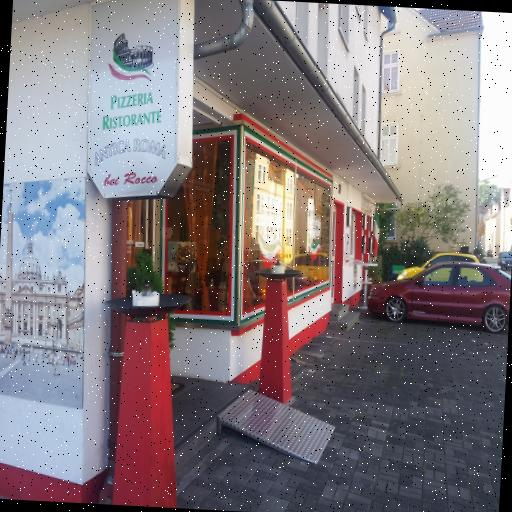ramp: (214, 384, 336, 466)
